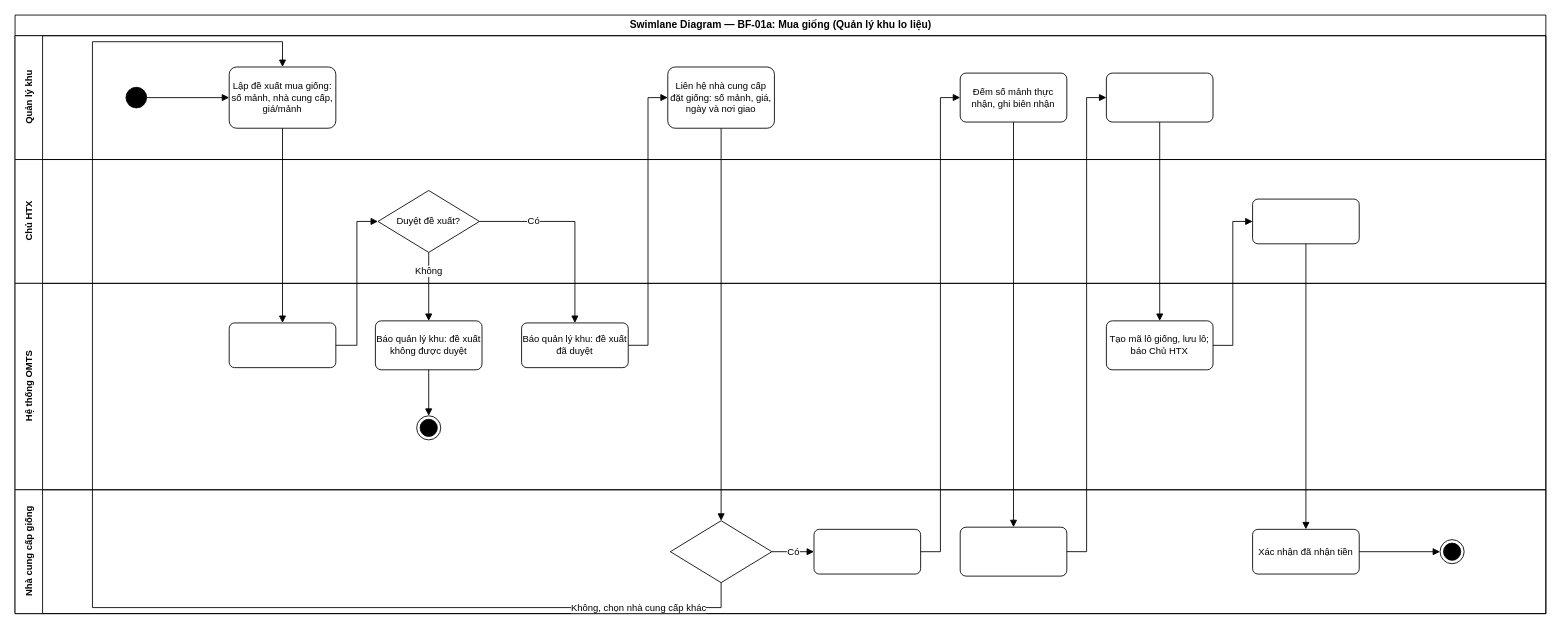
Image size: 1561x630. Some labels were removed from this diagram. The centre of each missing label's shape, as x and y in pixels:
Ghi lô giống: nhà cung cấp, số mảnh, ảnh biên nhận: the point at 1159,97
Giao giống tới nơi đã hẹn: the point at 867,551
Lưu đề xuất; báo Chủ HTX: the point at 282,345
Trả tiền giống cho nhà cung cấp: the point at 1305,221
Xác nhận số mảnh thực nhận, ký biên nhận: the point at 1013,551
Xác nhận đơn giống?: the point at 721,551
